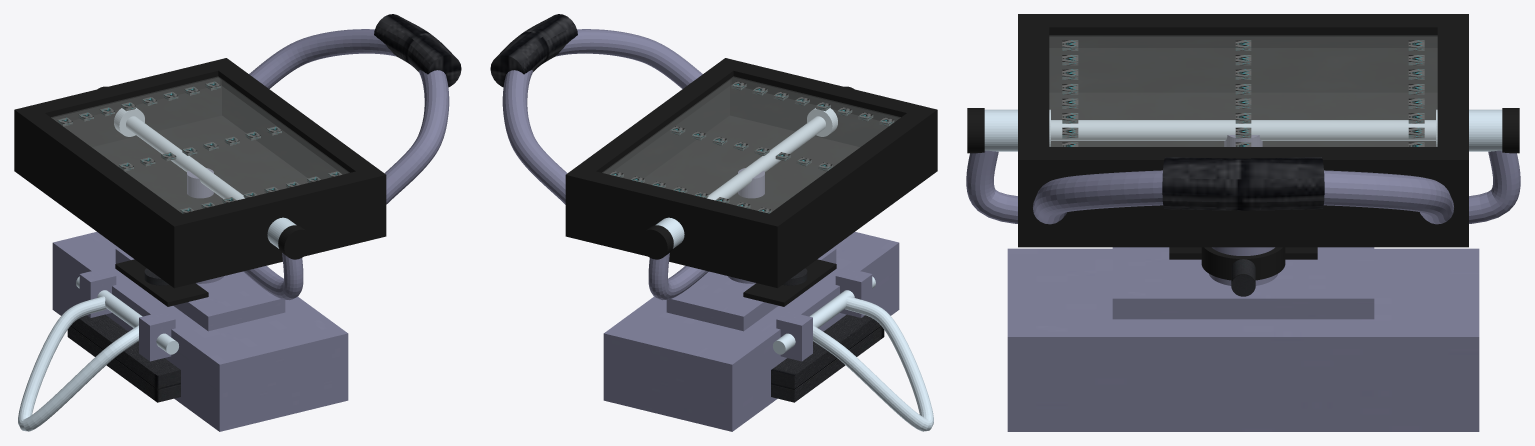
File: Equipment_LED_work_light__0556.glb
3 renders of one model, left to right at view 1: azimuth 30°, elevation 25°; view 2: azimuth 150°, elevation 25°; view 3: azimuth 270°, elevation 25°, orthographic. The views are drawn at different scales.
Parts seen in each view (by area): view 1: stand_frame::base_shell, light_head::led_glass_panel, light_head::housing_back, light_head::housing_wall_right, light_head::housing_wall_bottom, light_head::carry_handle, light_head::housing_wall_left, hanging_hook::folding_hook, light_head::bezel_bottom, light_head::bezel_top, stand_frame::rear_stand_foot, stand_frame::top_saddle (+15 smaller); view 2: stand_frame::base_shell, light_head::led_glass_panel, light_head::housing_back, light_head::housing_wall_left, light_head::housing_wall_bottom, light_head::carry_handle, light_head::housing_wall_right, light_head::bezel_bottom, hanging_hook::folding_hook, light_head::bezel_top, stand_frame::rear_stand_foot, stand_frame::top_saddle (+15 smaller); view 3: stand_frame::base_shell, light_head::led_glass_panel, light_head::housing_wall_bottom, light_head::housing_back, stand_frame::top_saddle, light_head::housing_wall_top, light_head::bezel_bottom, light_head::carry_handle, light_head::handle_grip, light_head::bezel_top, inner_mast::pivot_axle, light_head::pivot_shaft (+14 smaller).
Boxes of the visible parts, x1=… form: stand_frame::base_shell: x1=52, y1=232, x2=348, y2=431; light_head::led_glass_panel: x1=51, y1=77, x2=349, y2=212; light_head::housing_back: x1=14, y1=115, x2=386, y2=288; light_head::housing_wall_right: x1=168, y1=178, x2=386, y2=284; light_head::housing_wall_bottom: x1=20, y1=118, x2=184, y2=283; light_head::carry_handle: x1=249, y1=29, x2=449, y2=204; light_head::housing_wall_left: x1=14, y1=77, x2=221, y2=170; hanging_hook::folding_hook: x1=18, y1=296, x2=138, y2=431; light_head::bezel_bottom: x1=14, y1=105, x2=193, y2=233; light_head::bezel_top: x1=207, y1=58, x2=386, y2=185; stand_frame::rear_stand_foot: x1=67, y1=314, x2=180, y2=402; stand_frame::top_saddle: x1=115, y1=248, x2=285, y2=331; stand_frame::base_shell: x1=603, y1=232, x2=899, y2=431; light_head::led_glass_panel: x1=602, y1=77, x2=900, y2=212; light_head::housing_back: x1=565, y1=115, x2=937, y2=288; light_head::housing_wall_left: x1=565, y1=178, x2=783, y2=284; light_head::housing_wall_bottom: x1=767, y1=121, x2=931, y2=284; light_head::carry_handle: x1=502, y1=29, x2=702, y2=204; light_head::housing_wall_right: x1=730, y1=77, x2=937, y2=171; light_head::bezel_bottom: x1=758, y1=105, x2=937, y2=232; hanging_hook::folding_hook: x1=813, y1=296, x2=933, y2=431; light_head::bezel_top: x1=565, y1=58, x2=744, y2=185; stand_frame::rear_stand_foot: x1=771, y1=314, x2=884, y2=402; stand_frame::top_saddle: x1=666, y1=248, x2=836, y2=331; stand_frame::base_shell: x1=1007, y1=248, x2=1479, y2=431; light_head::led_glass_panel: x1=1049, y1=36, x2=1437, y2=146; light_head::housing_wall_bottom: x1=1049, y1=36, x2=1437, y2=92; light_head::housing_back: x1=1018, y1=92, x2=1468, y2=247; stand_frame::top_saddle: x1=1112, y1=247, x2=1374, y2=319; light_head::housing_wall_top: x1=1018, y1=165, x2=1468, y2=242; light_head::bezel_bottom: x1=1018, y1=14, x2=1468, y2=36; light_head::carry_handle: x1=1033, y1=170, x2=1453, y2=224; light_head::handle_grip: x1=1162, y1=157, x2=1324, y2=210; light_head::bezel_top: x1=1018, y1=147, x2=1468, y2=169; inner_mast::pivot_axle: x1=1051, y1=120, x2=1435, y2=140; light_head::pivot_shaft: x1=1051, y1=120, x2=1435, y2=139.
Bounding box in the file's own units: 0.3895 × 0.269 × 0.3175.
Materials: 6 (4 with a texture image).
